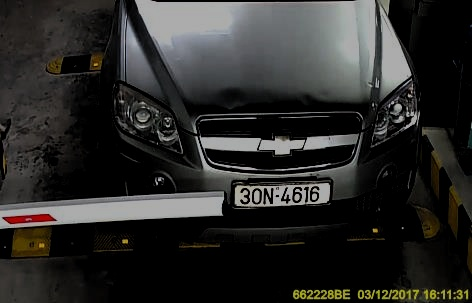plate: (232, 178, 333, 208)
